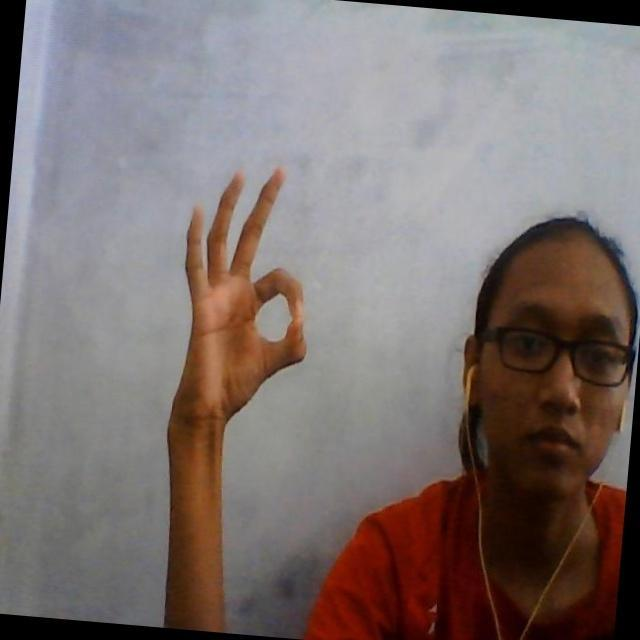O: (175, 165, 315, 414)
